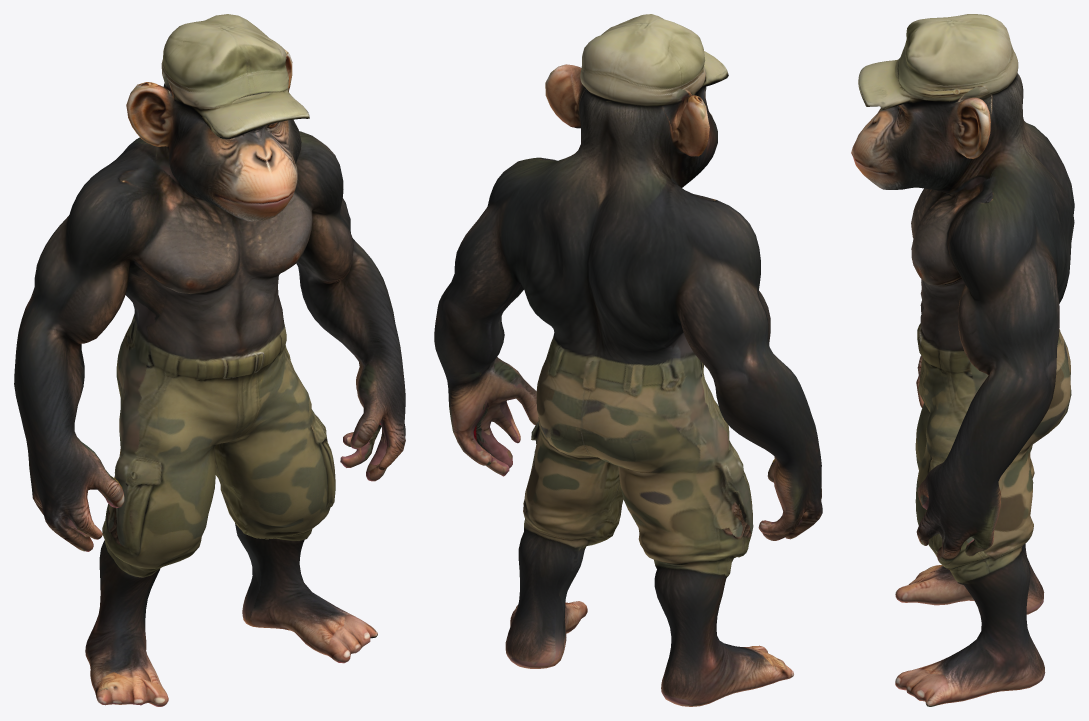
File: Meshy_AI_a_strong_chimpanzee_w_0602221745_texture.fbx
The picture shows the model from 3 angles, left to right: view 1: azimuth 30°, elevation 25°; view 2: azimuth 150°, elevation 25°; view 3: azimuth 270°, elevation 25°; orthographic projection. The views are drawn at different scales.
Parts seen in each view (by area): view 1: input; view 2: input; view 3: input.
Boxes of the visible parts, x1,y1,x2,y2 form: input: (14,14,405,706); input: (434,14,822,706); input: (851,14,1074,706).
Bounding box in the file's own units: 120 × 200 × 64.86.
Materials: 1 (1 with a texture image).
